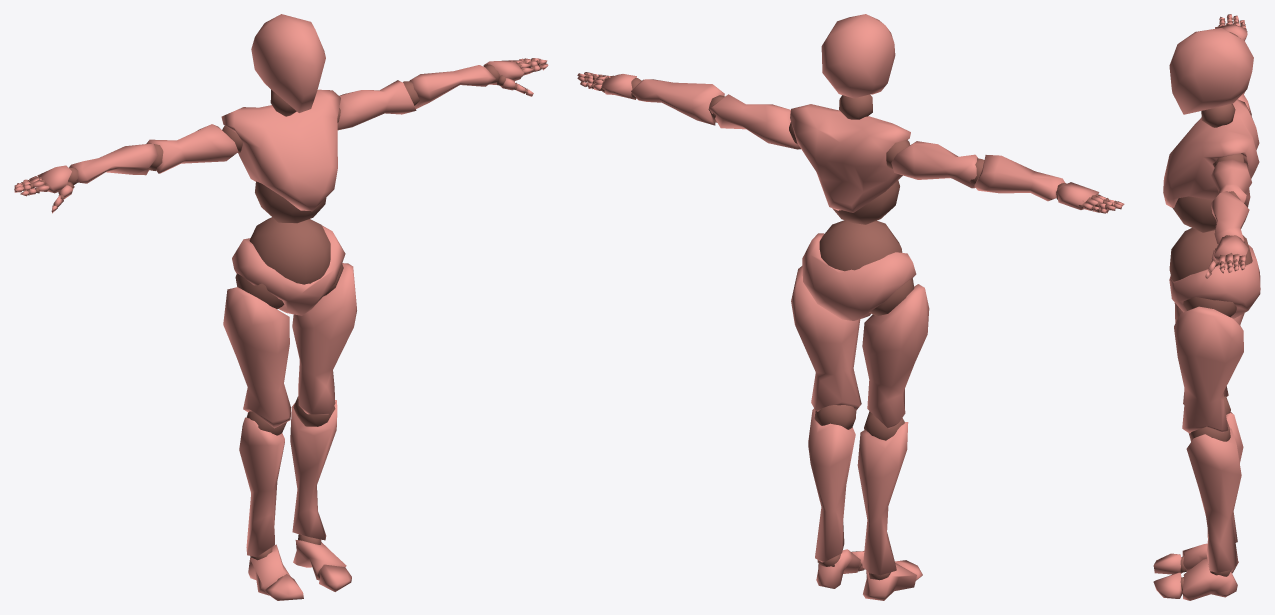
Rendered from Zombie Idle.fbx.
The picture shows the model from 3 angles, left to right: view 1: azimuth 30°, elevation 25°; view 2: azimuth 150°, elevation 25°; view 3: azimuth 270°, elevation 25°; orthographic projection. The views are drawn at different scales.
Parts seen in each view (by area): view 1: Beta_Surface, Beta_Joints; view 2: Beta_Surface, Beta_Joints; view 3: Beta_Surface, Beta_Joints.
Part boxes in pixels (x1=…): Beta_Surface: x1=14, y1=14, x2=548, y2=600; Beta_Joints: x1=21, y1=58, x2=543, y2=580; Beta_Surface: x1=577, y1=14, x2=1124, y2=600; Beta_Joints: x1=584, y1=73, x2=1116, y2=580; Beta_Surface: x1=1153, y1=14, x2=1260, y2=600; Beta_Joints: x1=1169, y1=16, x2=1252, y2=591.
Bounding box in the file's own units: 1.67 × 1.67 × 0.2943.
